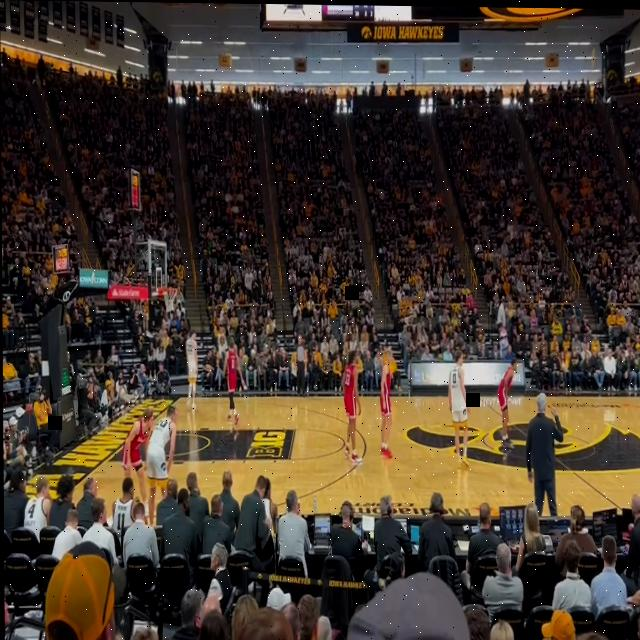basket: (162, 287, 178, 312)
game clock: (58, 248, 66, 257)
head coach: (525, 391, 563, 516)
player-iowa: (145, 405, 178, 531), (445, 348, 472, 470), (185, 329, 197, 413)
player-neb: (120, 409, 155, 518), (341, 350, 362, 464), (378, 349, 400, 457), (497, 357, 518, 447), (222, 340, 239, 425)
referee: (292, 335, 306, 398)
shot clock: (57, 258, 66, 270)
